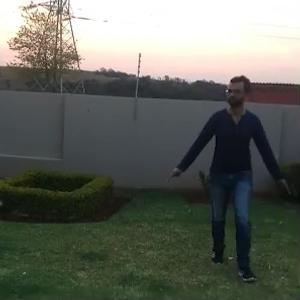land: (172, 66, 290, 280)
